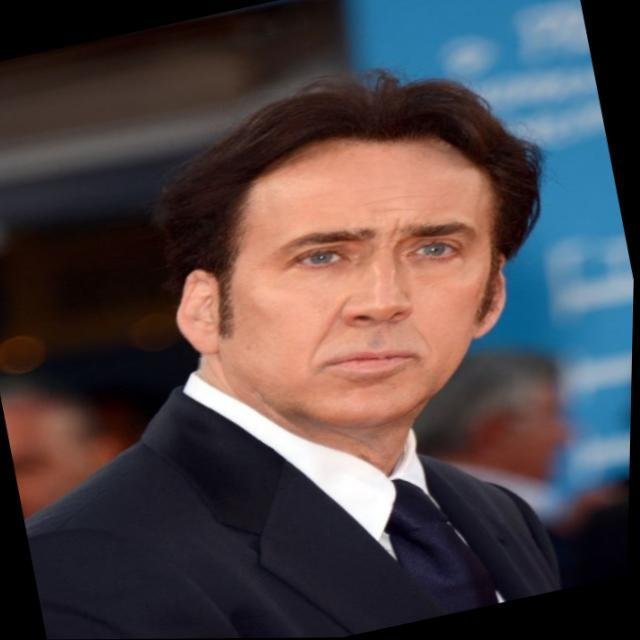Nonhelmet: (153, 65, 547, 433)
